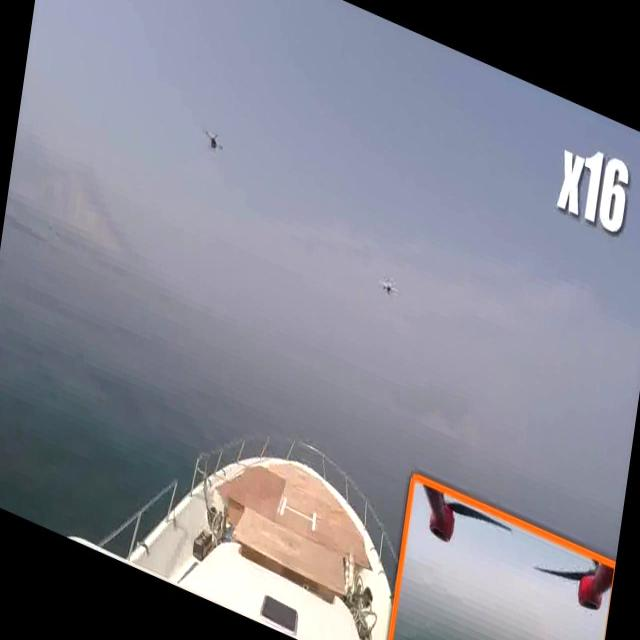drone: (198, 122, 236, 168), (377, 266, 414, 313)
